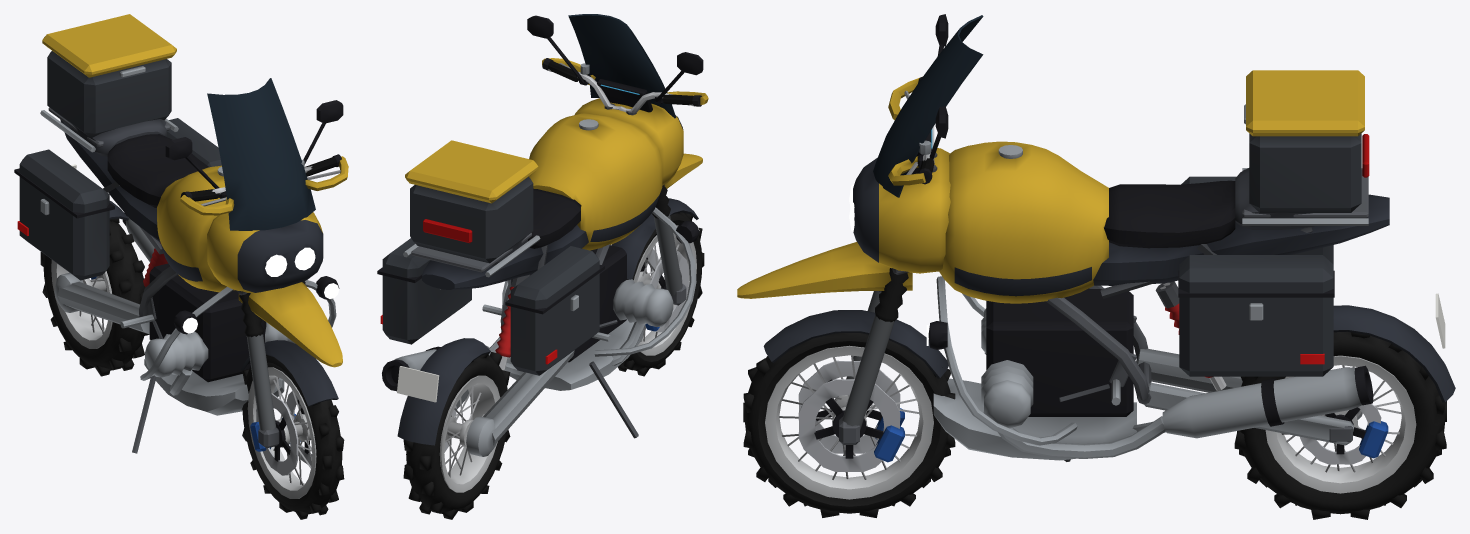
File: adventure.glb
3 renders of one model, left to right at view 1: azimuth 30°, elevation 25°; view 2: azimuth 150°, elevation 25°; view 3: azimuth 270°, elevation 25°, orthographic. The views are drawn at different scales.
Parts seen in each view (by area): view 1: body, wheel_front, wheel_rear, handlebar, fork_left, disc_front, headlight; view 2: body, wheel_rear, wheel_front, handlebar, fork_left, disc_front, brake_light; view 3: body, wheel_front, wheel_rear, disc_front, fork_right, handlebar, disc_rear.
Part boxes in pixels (<box>): body: <box>14,14,342,453</box>; wheel_front: <box>241,354,344,519</box>; wheel_rear: <box>40,218,149,376</box>; handlebar: <box>165,100,348,215</box>; fork_left: <box>239,293,279,451</box>; disc_front: <box>256,391,312,475</box>; headlight: <box>265,247,315,276</box>; body: <box>377,14,702,456</box>; wheel_rear: <box>403,352,510,519</box>; wheel_front: <box>618,212,704,376</box>; handlebar: <box>527,15,708,115</box>; fork_left: <box>645,184,686,331</box>; disc_front: <box>640,249,688,332</box>; brake_light: <box>423,219,472,243</box>; body: <box>737,15,1455,461</box>; wheel_front: <box>743,333,955,517</box>; wheel_rear: <box>1234,331,1446,519</box>; disc_front: <box>798,360,900,471</box>; fork_right: <box>839,268,908,462</box>; handlebar: <box>888,14,948,185</box>; disc_rear: <box>1300,404,1381,464</box>.
Size of the model in its own units: 0.7421 by 1.5 by 2.05.
